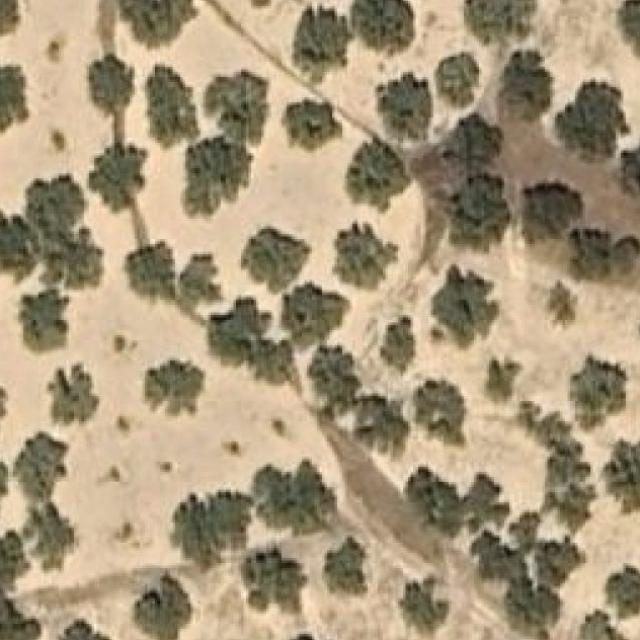Tree: (309, 345, 408, 447), (251, 456, 361, 536), (28, 173, 102, 288), (208, 297, 292, 386), (406, 467, 510, 538), (518, 401, 594, 487), (555, 80, 629, 164), (428, 264, 499, 350), (173, 490, 247, 564), (200, 61, 270, 136), (446, 173, 514, 250), (182, 140, 251, 214), (342, 138, 404, 218), (332, 222, 401, 292), (241, 224, 310, 292), (241, 544, 307, 614), (570, 356, 629, 432), (13, 429, 72, 504), (464, 0, 534, 62), (294, 9, 352, 83), (282, 284, 351, 346), (114, 0, 198, 49), (132, 570, 189, 640), (522, 181, 584, 245), (145, 62, 195, 141), (142, 358, 206, 419), (499, 51, 553, 122), (122, 237, 179, 303), (282, 97, 342, 158), (568, 229, 640, 279), (504, 578, 563, 639), (442, 115, 504, 173), (413, 380, 469, 444), (23, 500, 79, 564), (44, 366, 99, 430), (375, 74, 433, 134), (352, 0, 413, 55), (96, 140, 145, 208), (87, 54, 138, 116), (0, 210, 41, 282), (20, 290, 69, 350), (600, 441, 640, 512), (400, 578, 449, 632), (436, 52, 480, 107), (0, 56, 28, 137), (325, 538, 366, 593), (533, 280, 578, 330), (547, 485, 595, 526), (381, 318, 416, 374), (605, 566, 640, 621), (53, 616, 117, 640), (580, 610, 627, 640), (487, 361, 521, 401), (621, 140, 640, 208), (617, 0, 640, 56), (43, 31, 69, 65), (49, 128, 72, 158), (0, 0, 18, 36)
